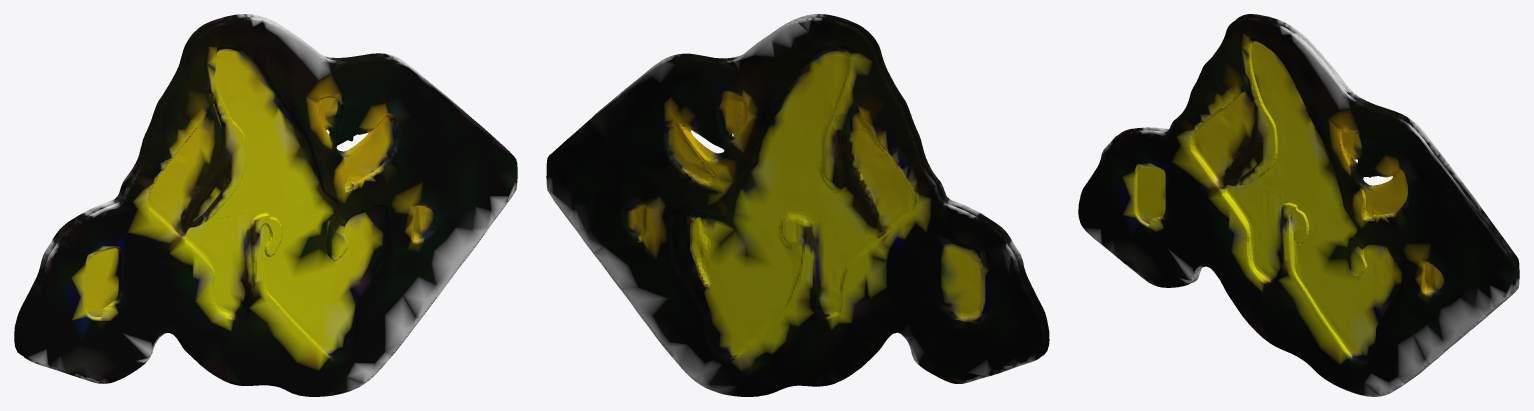
The model's file is sulphur.glb.
3 renders of one model, left to right at view 1: azimuth 30°, elevation 25°; view 2: azimuth 150°, elevation 25°; view 3: azimuth 330°, elevation 25°, orthographic. The views are drawn at different scales.
Parts seen in each view (by area): view 1: geometry_0; view 2: geometry_0; view 3: geometry_0.
Boxes of the visible parts, x1=… form: geometry_0: x1=14, y1=14, x2=517, y2=396; geometry_0: x1=546, y1=14, x2=1049, y2=396; geometry_0: x1=1078, y1=14, x2=1519, y2=396.
Size of the model in its own units: 0.4885 by 0.375 by 0.0126.
